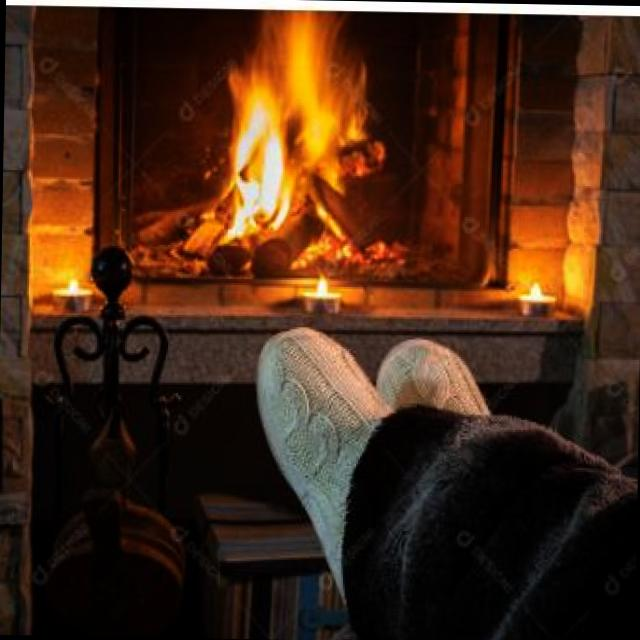Fire_Save: (161, 8, 408, 278)
